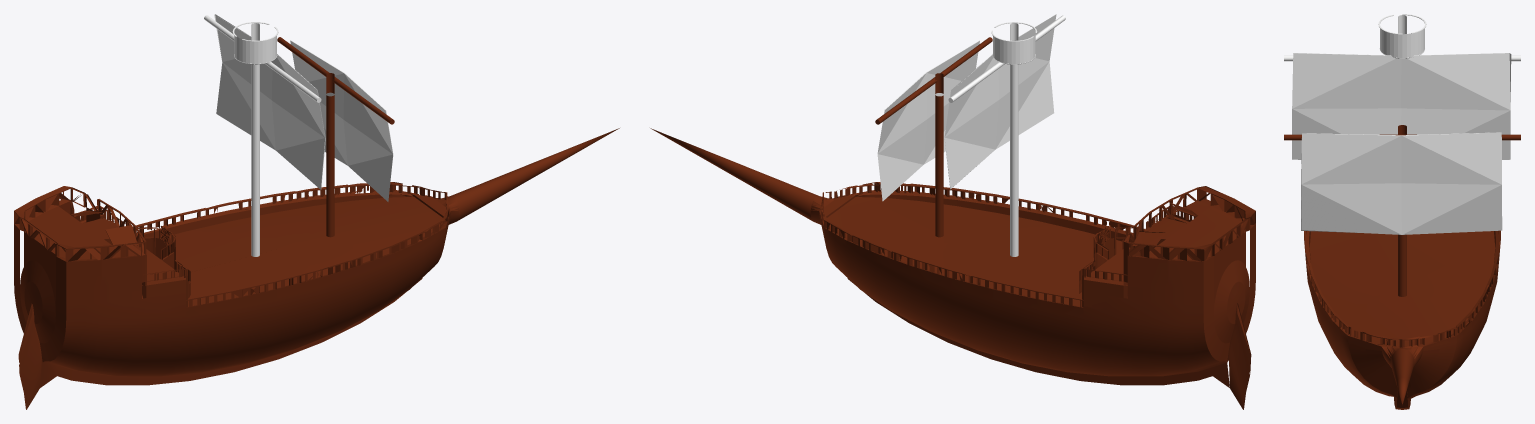
Rendered from lab-test-model.glb.
The picture shows the model from 3 angles, left to right: view 1: azimuth 30°, elevation 25°; view 2: azimuth 150°, elevation 25°; view 3: azimuth 270°, elevation 25°; orthographic projection. The views are drawn at different scales.
Visible parts, largest first — view 1: PirateShip, MainSail.001, MainSail, Cylinder.002, Cylinder, Cylinder.001, Cylinder.003; view 2: PirateShip, MainSail.001, MainSail, Cylinder.002, Cylinder, Cylinder.001, Cylinder.003; view 3: PirateShip, MainSail, MainSail.001, Cylinder.002, Cylinder, Cylinder.001.
Part boxes in pixels (left/top/right/bottom): PirateShip: left=14, top=128, right=619, bottom=409; MainSail.001: left=214, top=14, right=325, bottom=189; MainSail: left=290, top=40, right=393, bottom=201; Cylinder.002: left=232, top=22, right=278, bottom=256; Cylinder: left=326, top=73, right=334, bottom=237; Cylinder.001: left=277, top=37, right=394, bottom=124; Cylinder.003: left=204, top=15, right=321, bottom=102; PirateShip: left=650, top=128, right=1255, bottom=409; MainSail.001: left=944, top=14, right=1056, bottom=189; MainSail: left=877, top=40, right=979, bottom=201; Cylinder.002: left=991, top=22, right=1037, bottom=256; Cylinder: left=935, top=73, right=943, bottom=237; Cylinder.001: left=875, top=37, right=992, bottom=124; Cylinder.003: left=948, top=15, right=1065, bottom=102; PirateShip: left=1304, top=230, right=1500, bottom=409; MainSail: left=1301, top=132, right=1502, bottom=234; MainSail.001: left=1292, top=53, right=1511, bottom=159; Cylinder.002: left=1378, top=14, right=1426, bottom=58; Cylinder: left=1398, top=125, right=1406, bottom=296; Cylinder.001: left=1284, top=134, right=1520, bottom=140.
Bounding box in the file's own units: 24.89 × 13.37 × 8.07.
